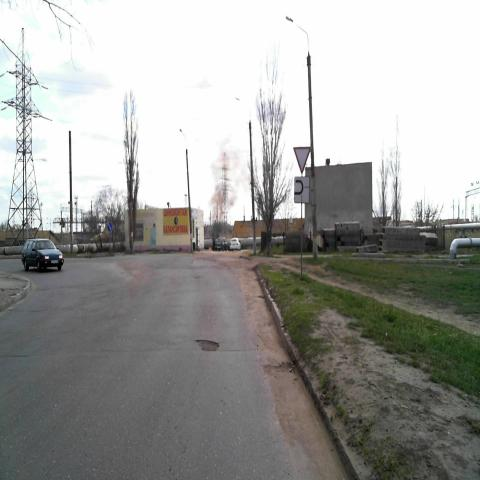8_13: (294, 177, 309, 203)
